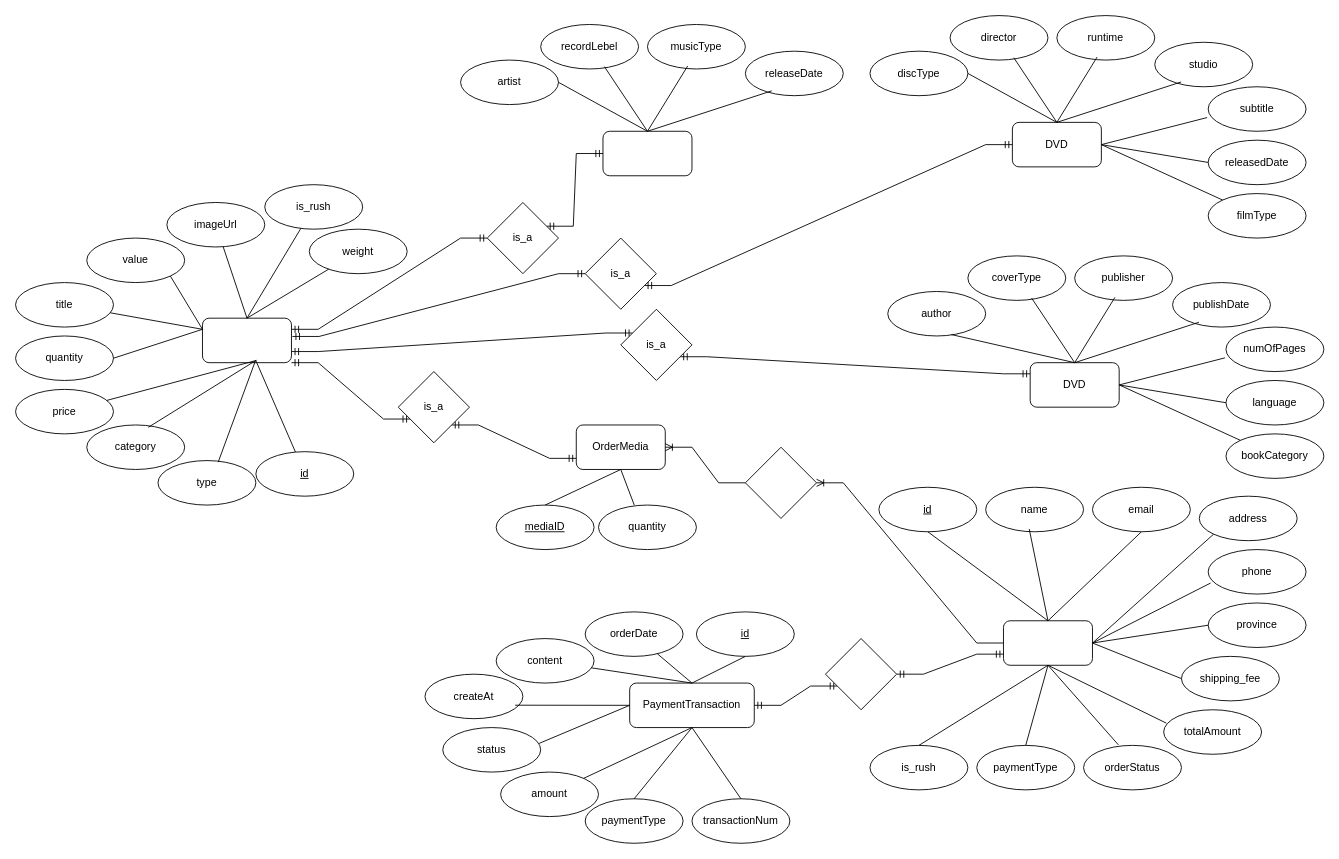
Image size: 1339x859. Some labels were removed from this diagram. The box of each missing label's shape, as (x1, y1, x2, y2) in pixels:
CD: (602, 130, 692, 176)
has_a: (825, 638, 897, 710)
include: (744, 446, 817, 518)
Media: (202, 317, 291, 363)
Order: (1003, 620, 1092, 665)
